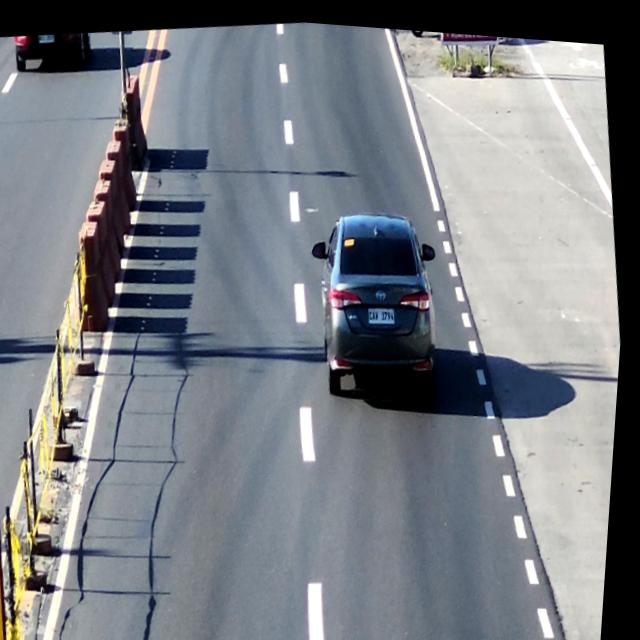Car: (312, 197, 453, 398)
License-Plate: (369, 295, 403, 329)
